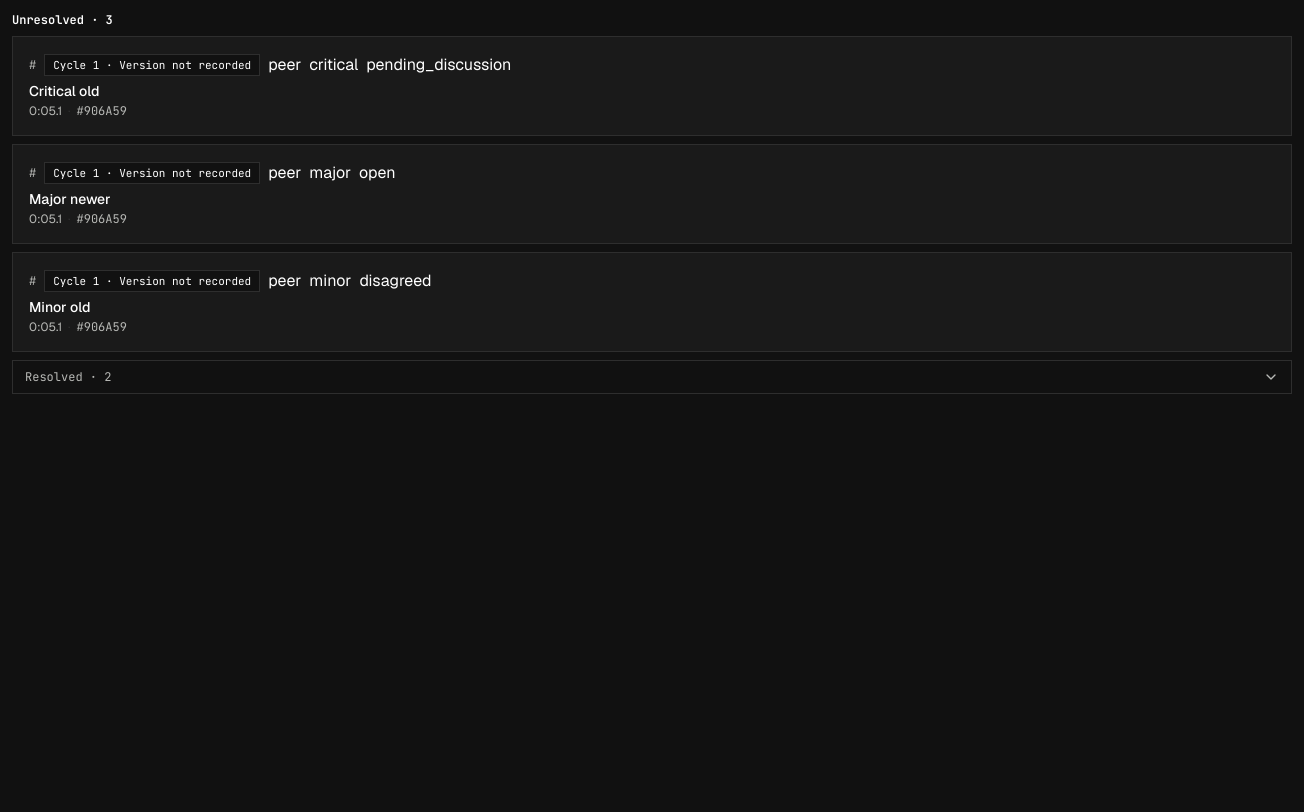
IssueMarkerList › orders all unresolved states by severity and folds both resolved states with counts
Check: the text "Internal closed" is not shown
Click the button "Resolved · 2" at (68, 377), box [12,360,1292,394]
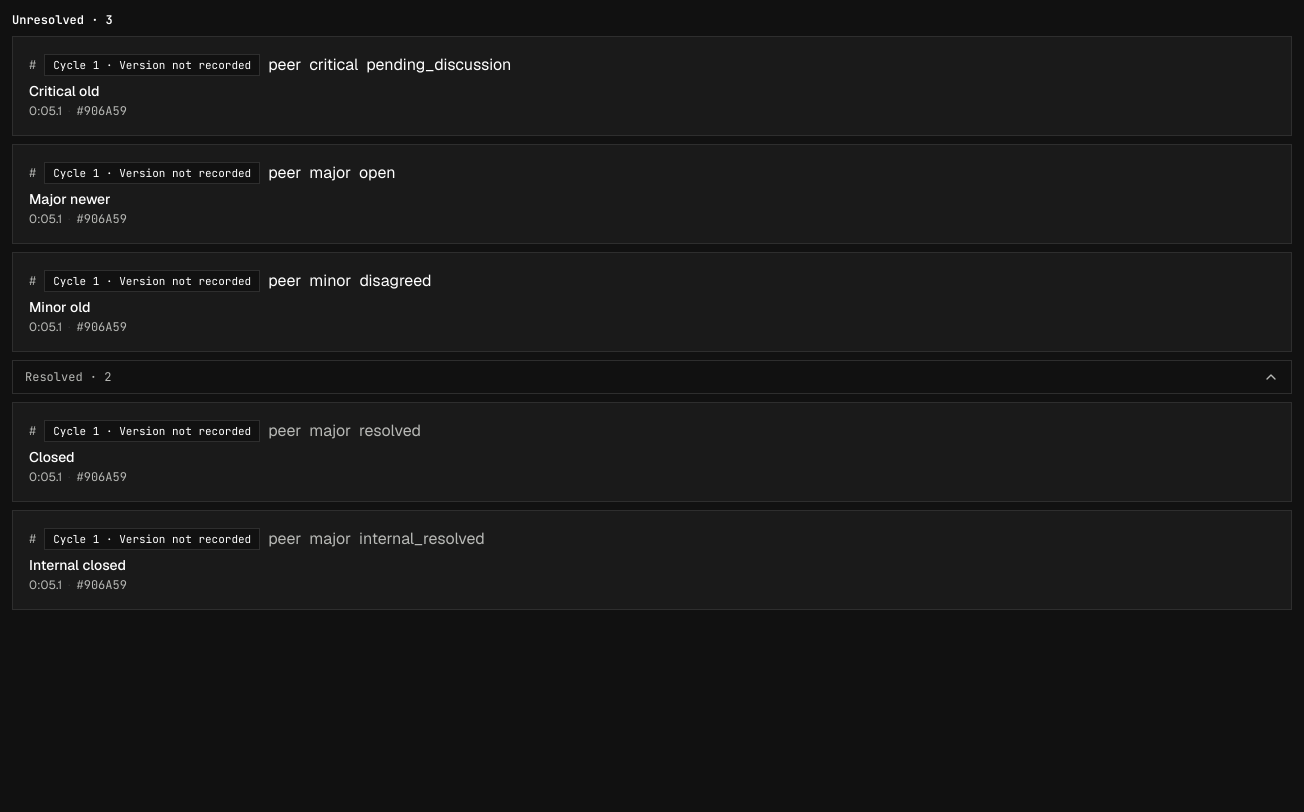
Check: the text "Internal closed" is shown, box [29,556,126,574]
